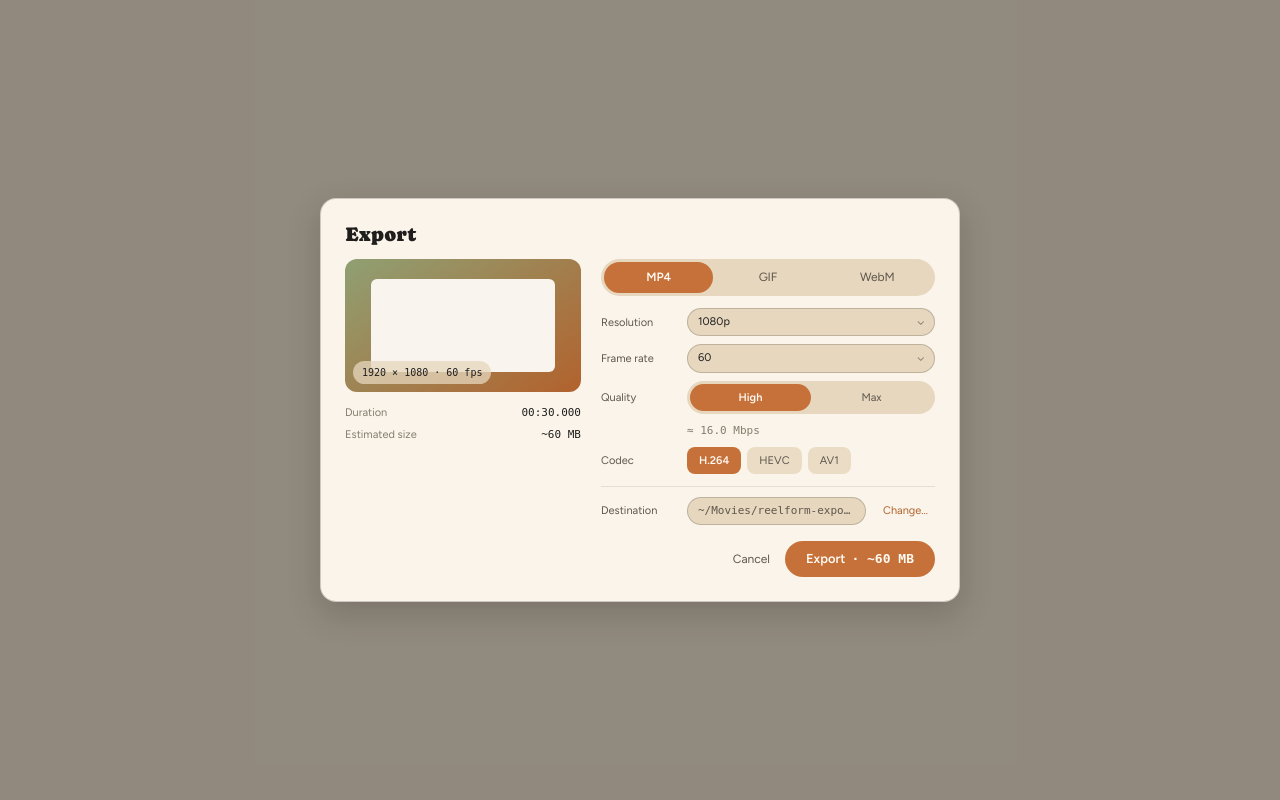
Scenario: ExportDialog › hides the codec Segmented for GIF
The width and height of the screenshot is (1280, 800).
Expected: the radio button "H.264" is shown, [687, 447, 741, 474]
Click the radio button "GIF" at (768, 277), box [759, 270, 777, 284]
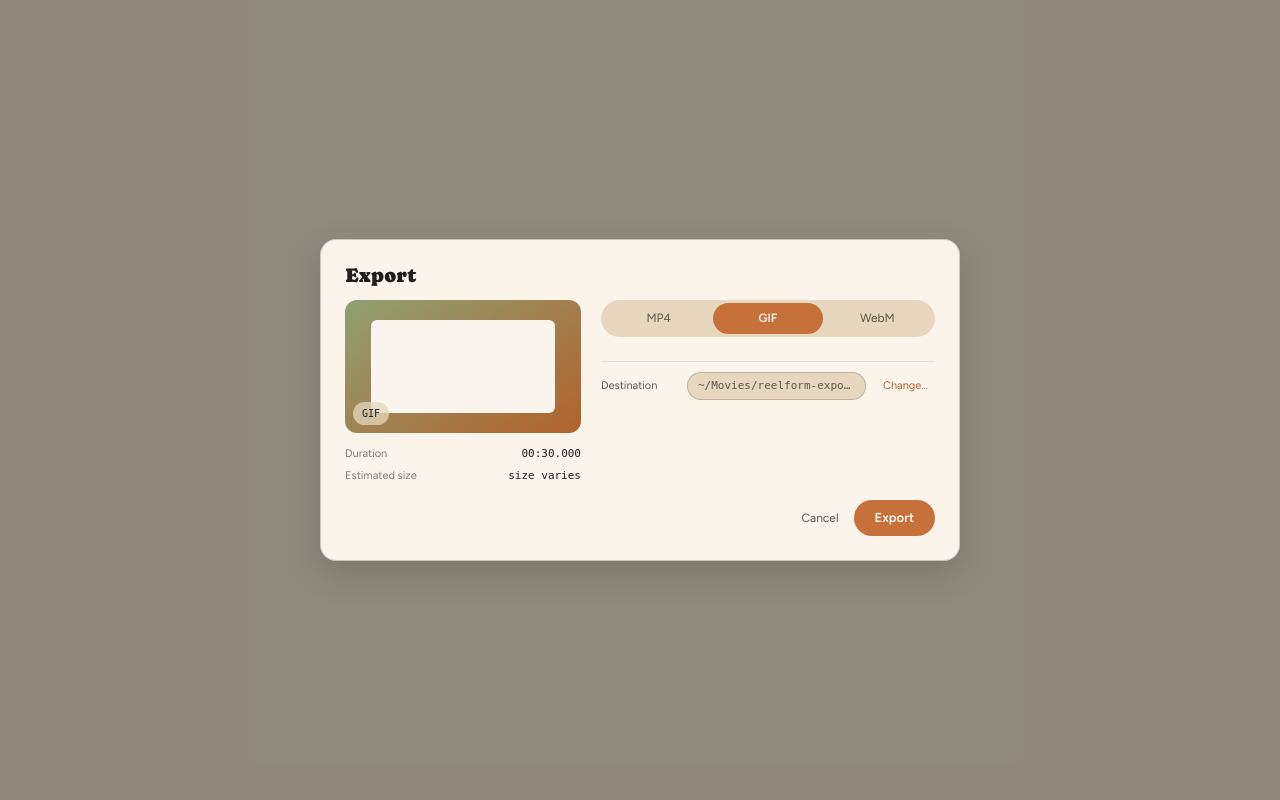
Expected: the radio button "H.264" is gone
Expected: the text with test id "size-value" reads "size varies", [508, 469, 581, 482]
